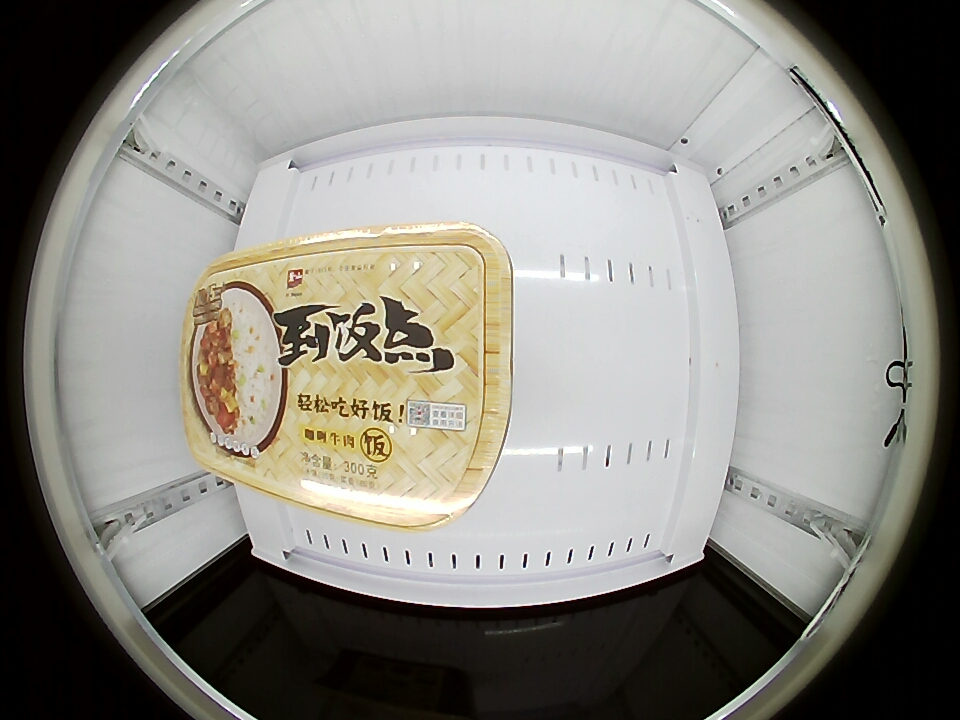daofandian2: (177, 224, 514, 530)
